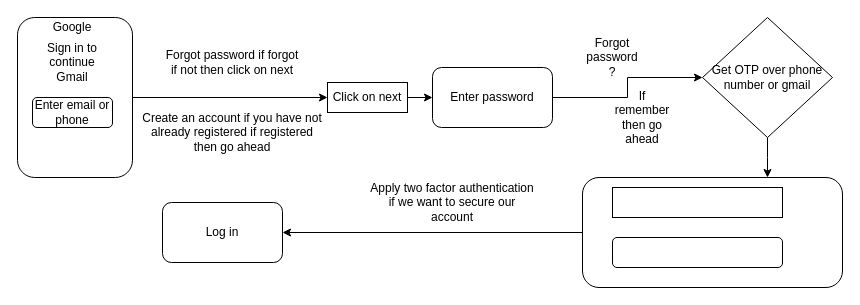
Image size: 860x305. Some labels were removed from this diagram. The shapes that lost their labels are listed below. From the top down, each one's centre as x and y in pixels, then its label:
At point (697, 202): "New password".
At point (697, 252): "Confirm password".
